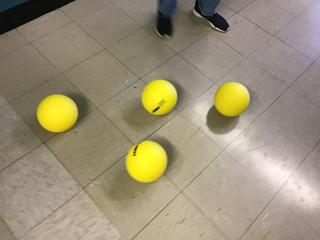power_cell: (35, 94, 81, 138), (125, 138, 168, 185), (213, 80, 252, 121), (141, 77, 178, 117)
